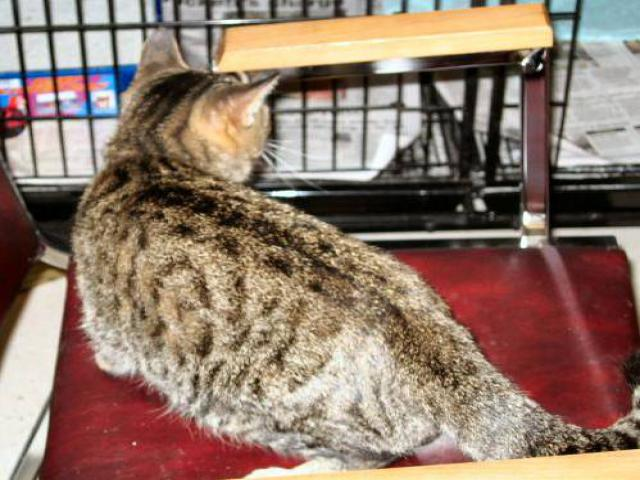cat: (74, 54, 608, 468)
